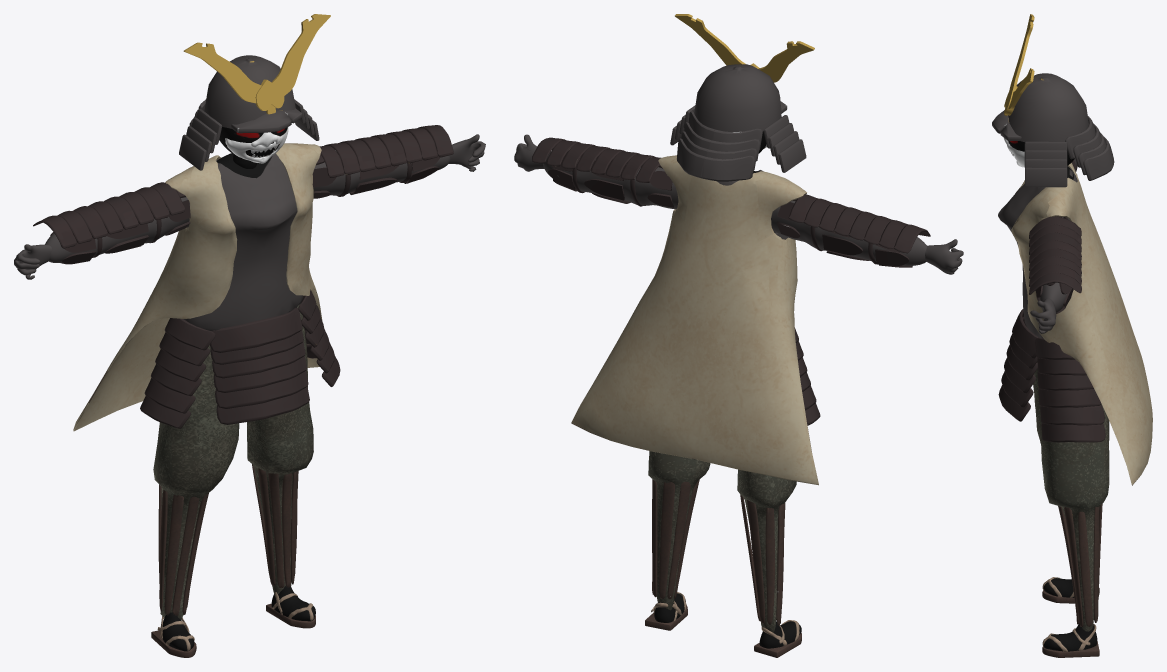
The model's file is 최종보스 최종 텍스처작업.fbx.
3 renders of one model, left to right at view 1: azimuth 30°, elevation 25°; view 2: azimuth 150°, elevation 25°; view 3: azimuth 270°, elevation 25°, orthographic. The views are drawn at different scales.
Visible parts, largest first — view 1: Group64601; view 2: Group64601; view 3: Group64601.
Boxes of the visible parts, x1,y1,x2,y2 form: Group64601: [14, 14, 485, 657]; Group64601: [514, 14, 963, 657]; Group64601: [992, 14, 1152, 657].
Size of the model in its own units: 14.66 by 18.54 by 4.65.
